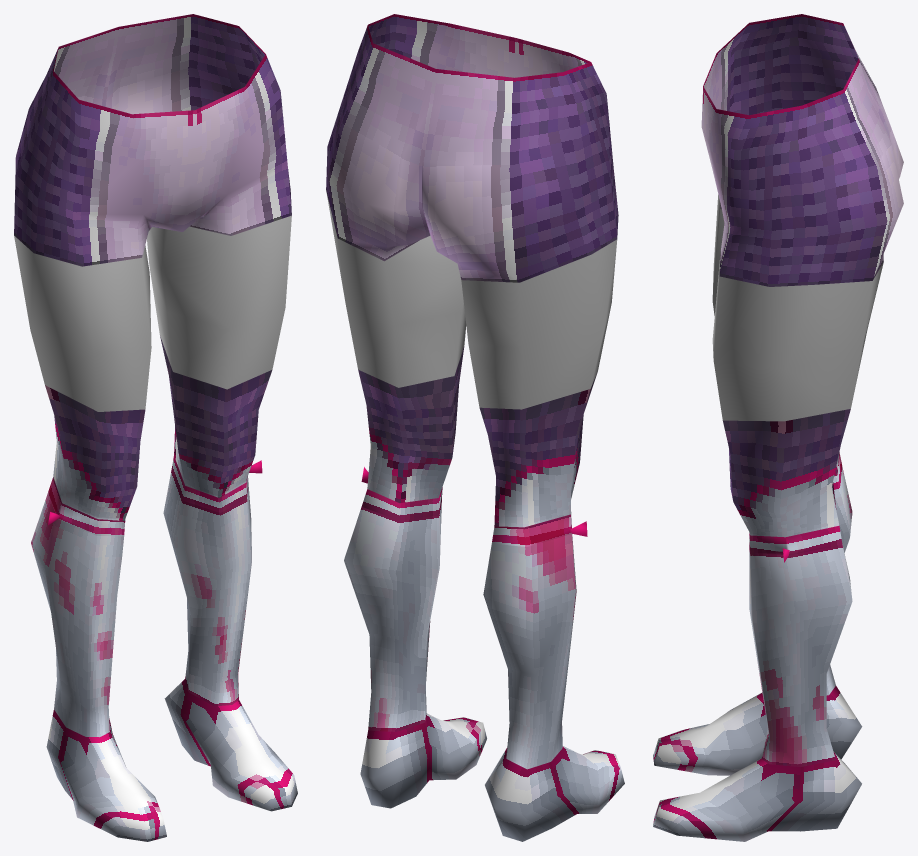
Rendered from f_legging038.obj.
3 views of the same model, side by side, from view 1: azimuth 30°, elevation 25°; view 2: azimuth 150°, elevation 25°; view 3: azimuth 270°, elevation 25° (orthographic). The views are drawn at different scales.
Visible parts, largest first — view 1: mesh00, mesh02, mesh01; view 2: mesh00, mesh02, mesh01; view 3: mesh00, mesh02, mesh01.
Part boxes in pixels (bbox=[...]): mesh00: bbox=[14, 14, 291, 737]; mesh02: bbox=[14, 215, 291, 411]; mesh01: bbox=[46, 679, 297, 841]; mesh00: bbox=[326, 14, 618, 769]; mesh02: bbox=[326, 193, 617, 409]; mesh01: bbox=[360, 713, 624, 841]; mesh00: bbox=[701, 14, 903, 766]; mesh02: bbox=[712, 194, 883, 421]; mesh01: bbox=[653, 686, 862, 841].
Bounding box in the file's own units: 40.71 × 110 × 33.96.
